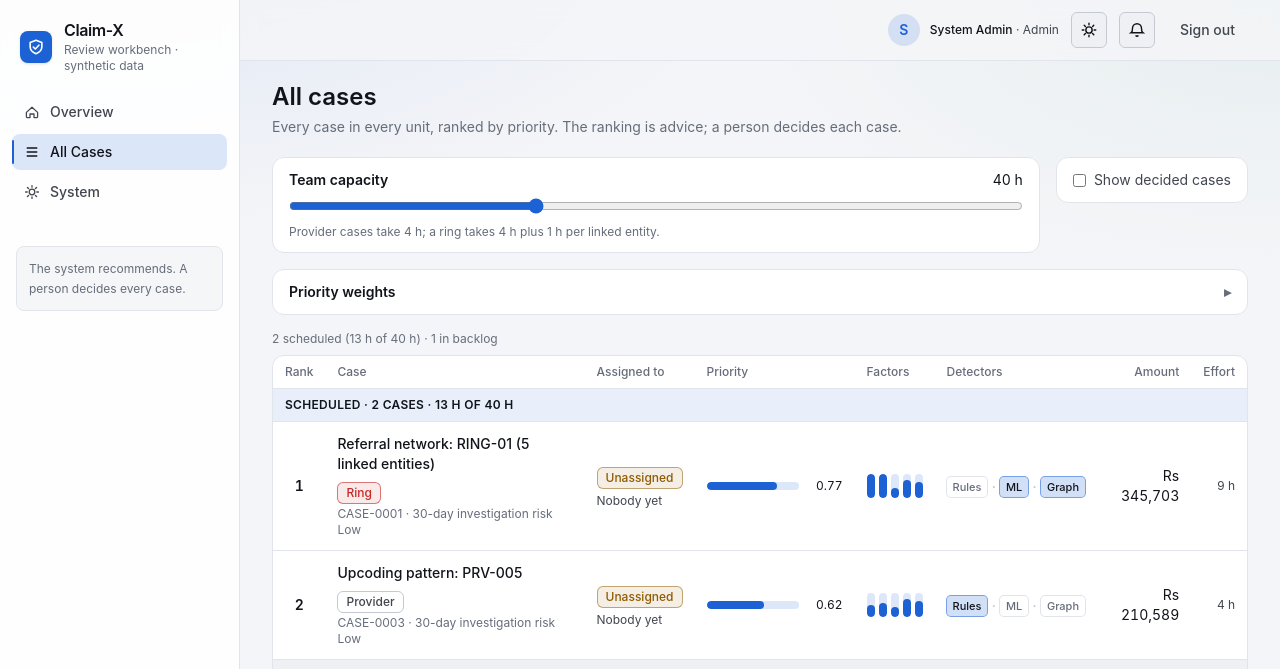
Test: Queue page › does not ask the server when every weight is zero, and says why
The width and height of the screenshot is (1280, 669).
Click the button "Priority weights ▸" at (342, 292), box [273,270,1247,314]
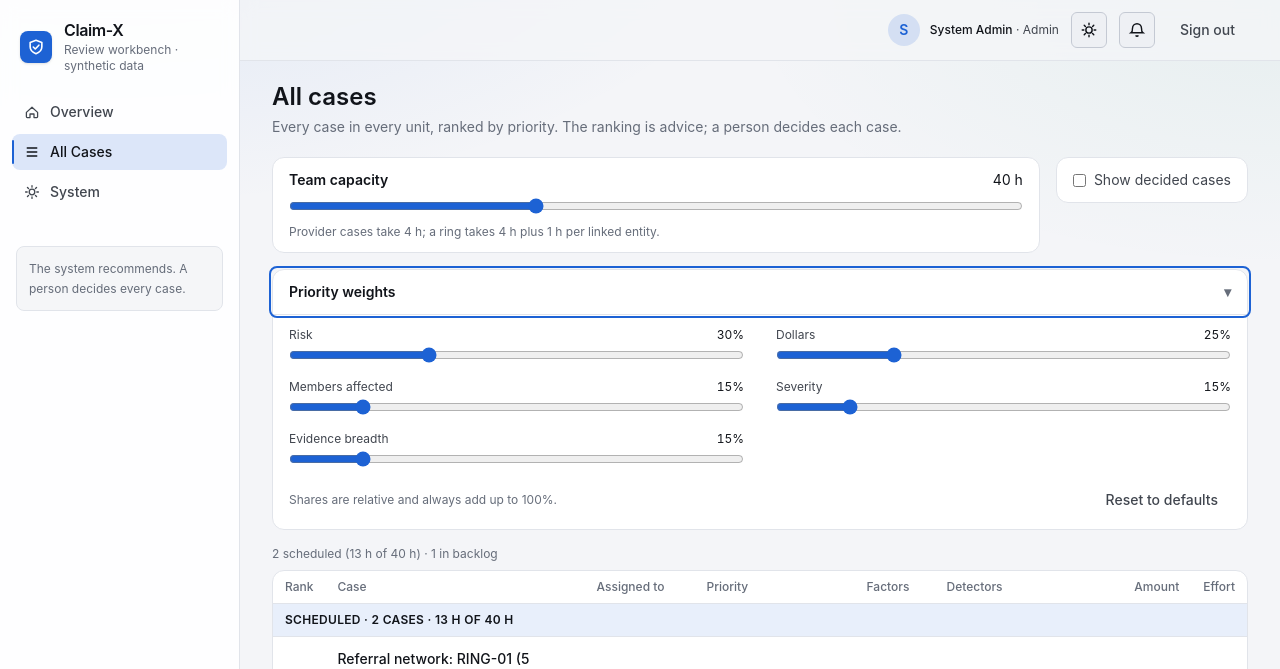
Set the slider named "Risk weight" to "0" at (297, 355), box [289,347,744,363]
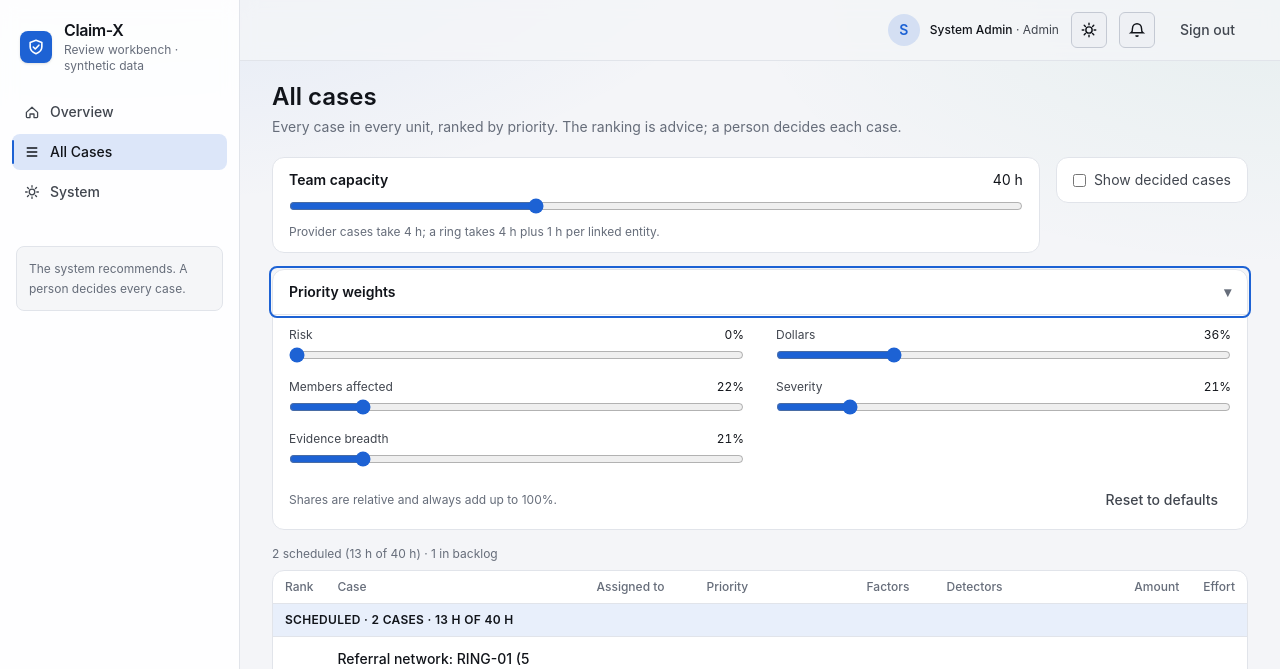
Set the slider labelled "Dollars 36%" to "0" at (784, 355), box [776,347,1231,363]
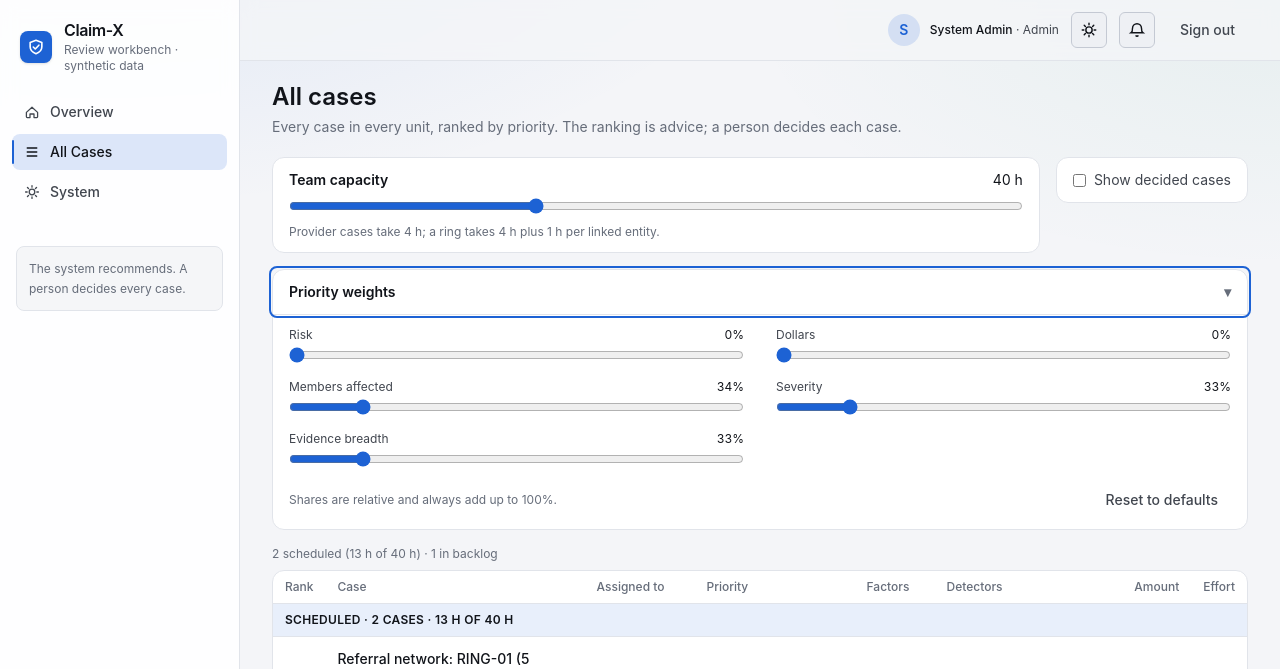
Set the slider labelled "Members affected 34%" to "0" at (297, 407), box [289,399,744,415]
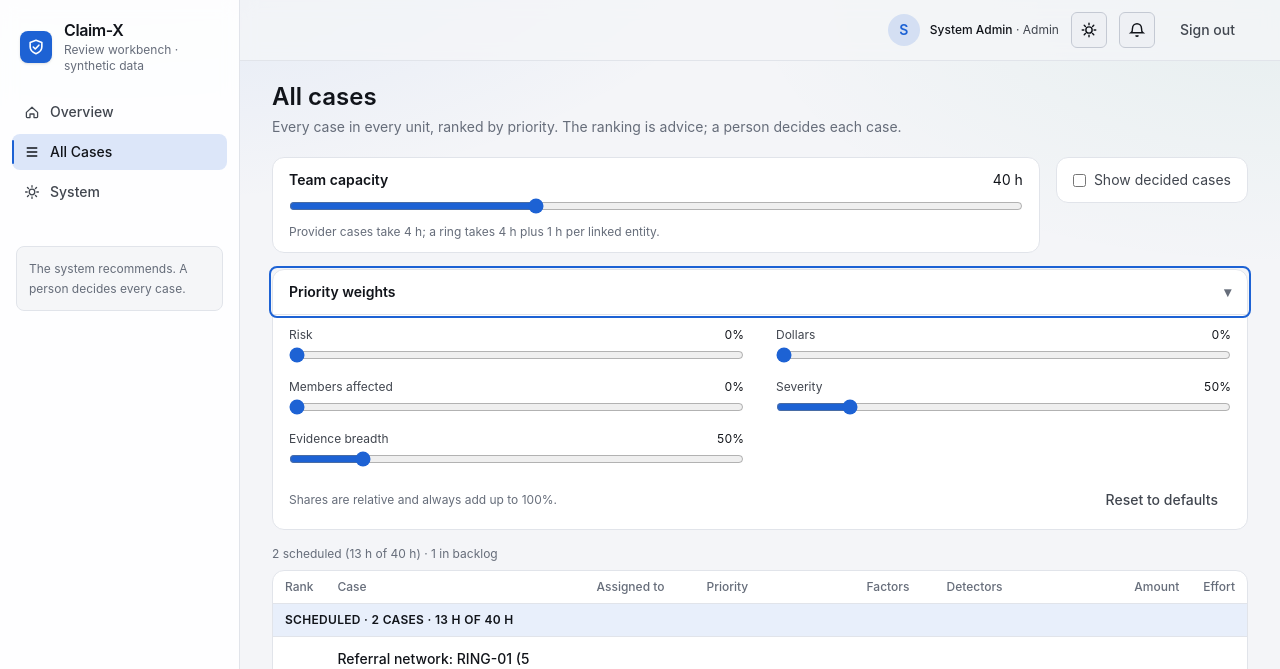
Set the slider labelled "Severity 50%" to "0" at (784, 407), box [776,399,1231,415]
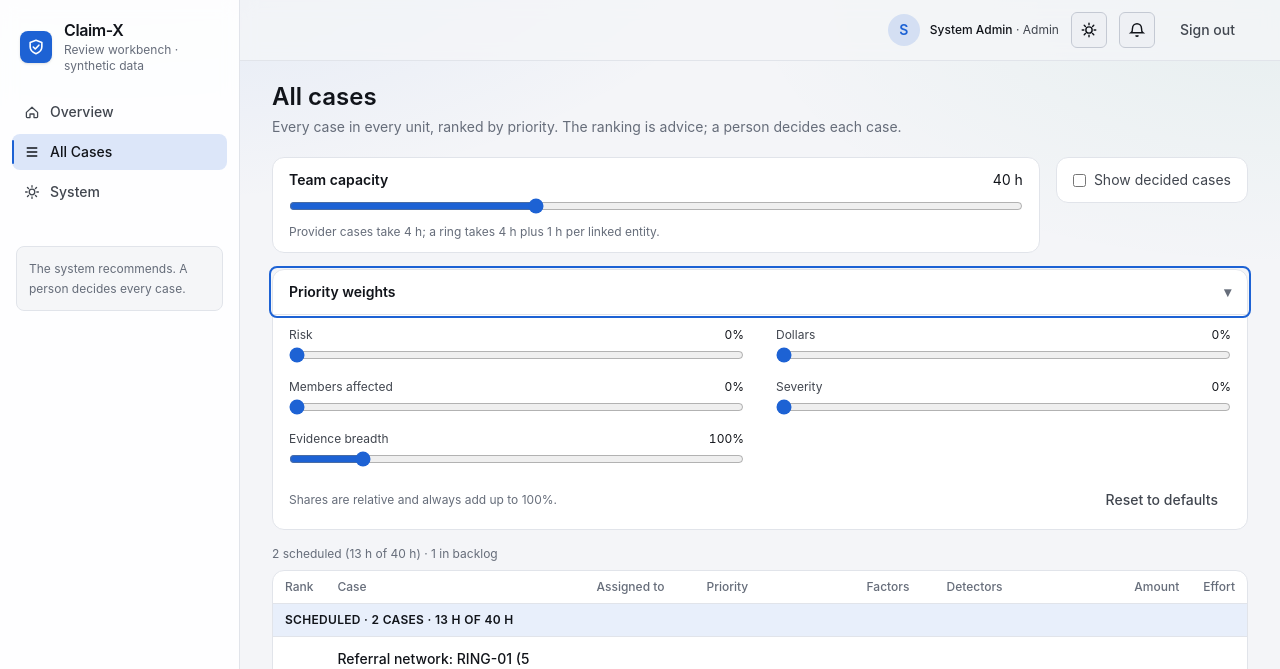
Set the slider labelled "Evidence breadth 100%" to "0" at (297, 459), box [289,451,744,467]
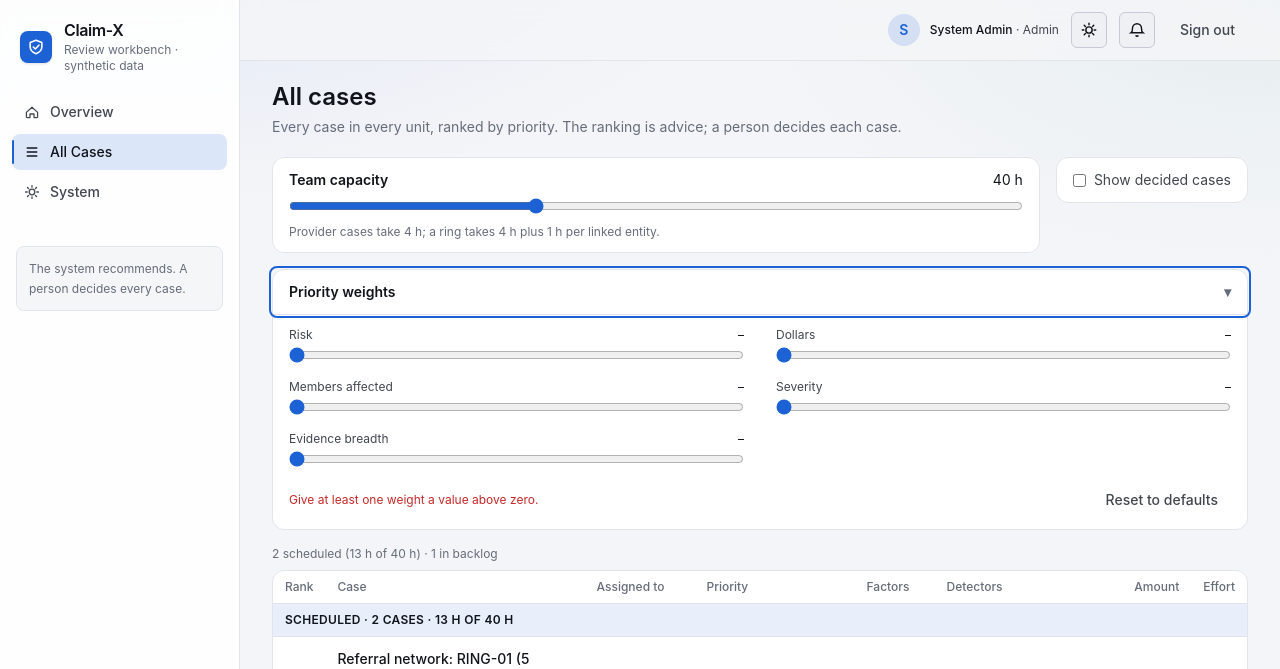
Expected: the message shows "at least one weight", [289,492,538,507]
